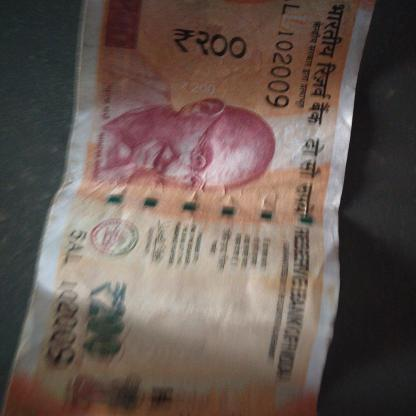New200Front: (39, 0, 340, 415)
